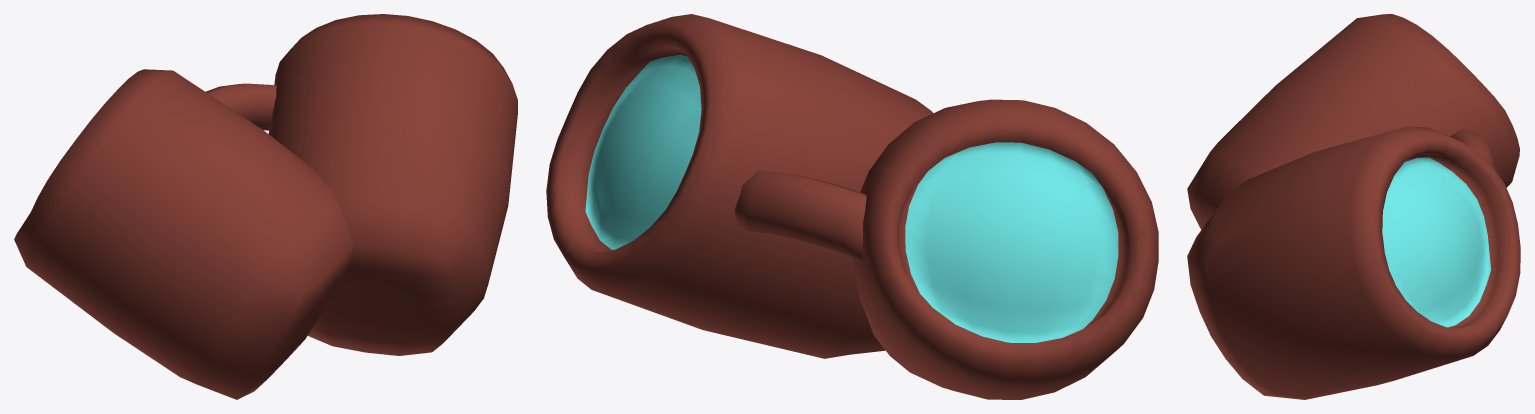
The model's file is Animated_pc.fbx.
3 views of the same model, side by side, from view 1: azimuth 30°, elevation 25°; view 2: azimuth 150°, elevation 25°; view 3: azimuth 270°, elevation 25° (orthographic). The views are drawn at different scales.
Parts seen in each view (by area): view 1: Goggles.006, Fastner.006; view 2: Goggles.006, Fastner.006; view 3: Goggles.006, Fastner.006.
Part boxes in pixels (x1,y1,x2,y2): Goggles.006: (14, 14, 517, 399); Fastner.006: (205, 83, 276, 130); Goggles.006: (546, 14, 1158, 399); Fastner.006: (734, 170, 866, 260); Goggles.006: (1187, 14, 1520, 399); Fastner.006: (1450, 129, 1495, 169).
Bounding box in the file's own units: 102 × 57.11 × 63.06.
